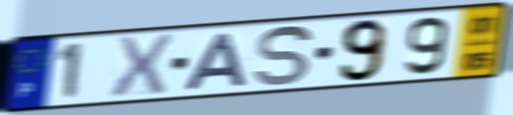1: (55, 41, 83, 101)
9: (335, 17, 392, 83), (403, 15, 450, 76)
A: (179, 31, 251, 93)
S: (253, 24, 316, 89)
X: (108, 32, 176, 101)
